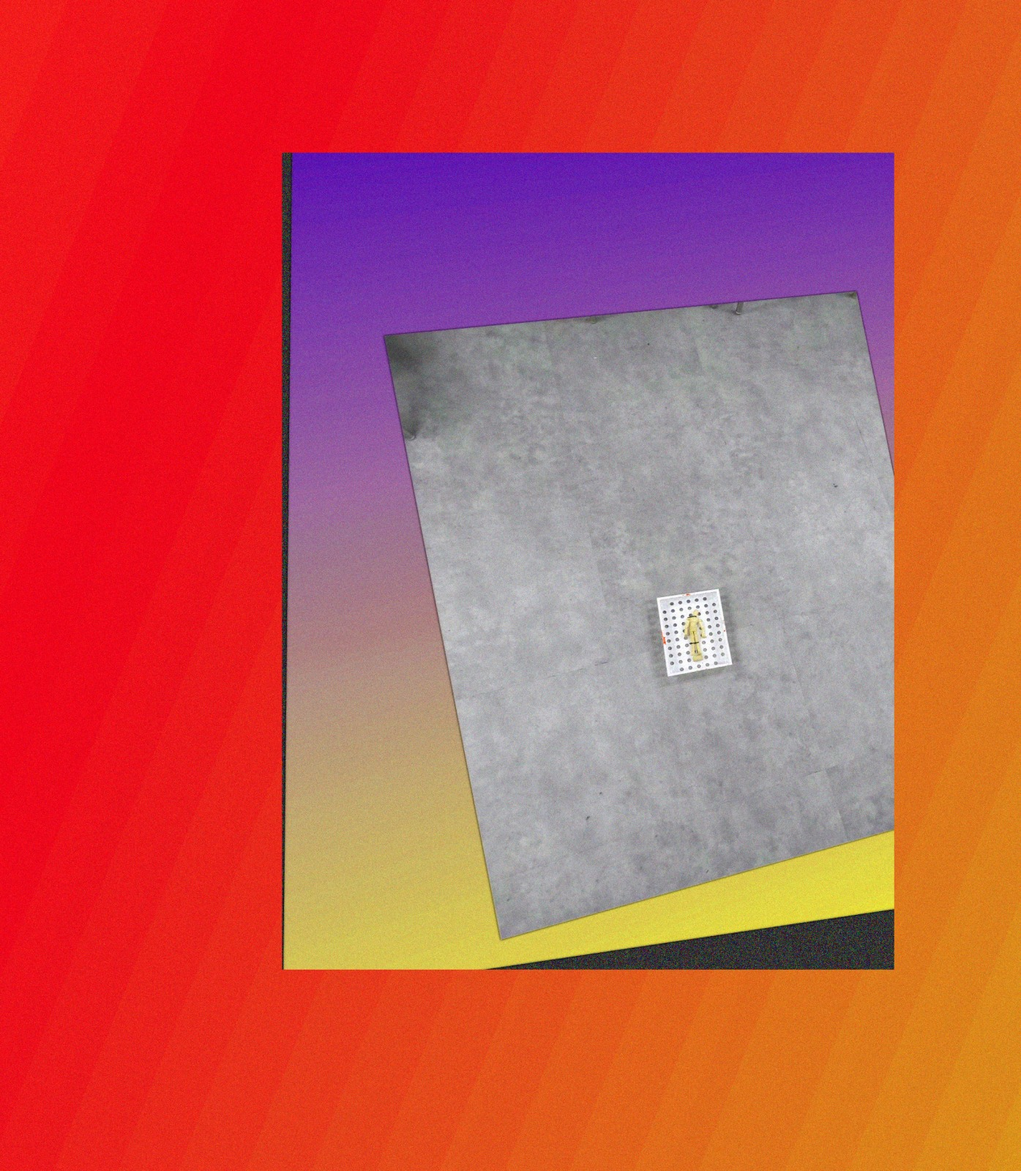basket: (653, 585, 734, 681)
mannequin: (683, 608, 708, 665)
